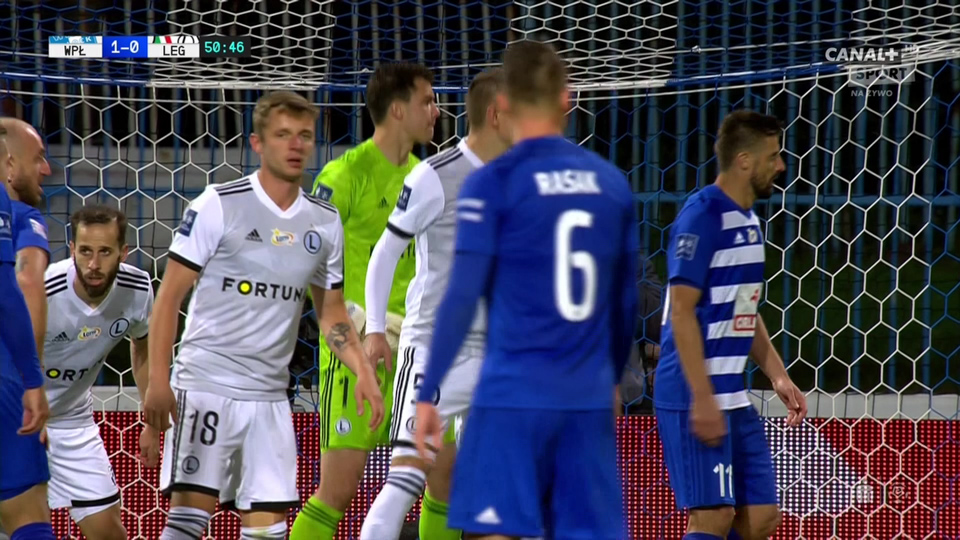Adidas: (245, 227, 265, 242), (52, 330, 71, 343)
